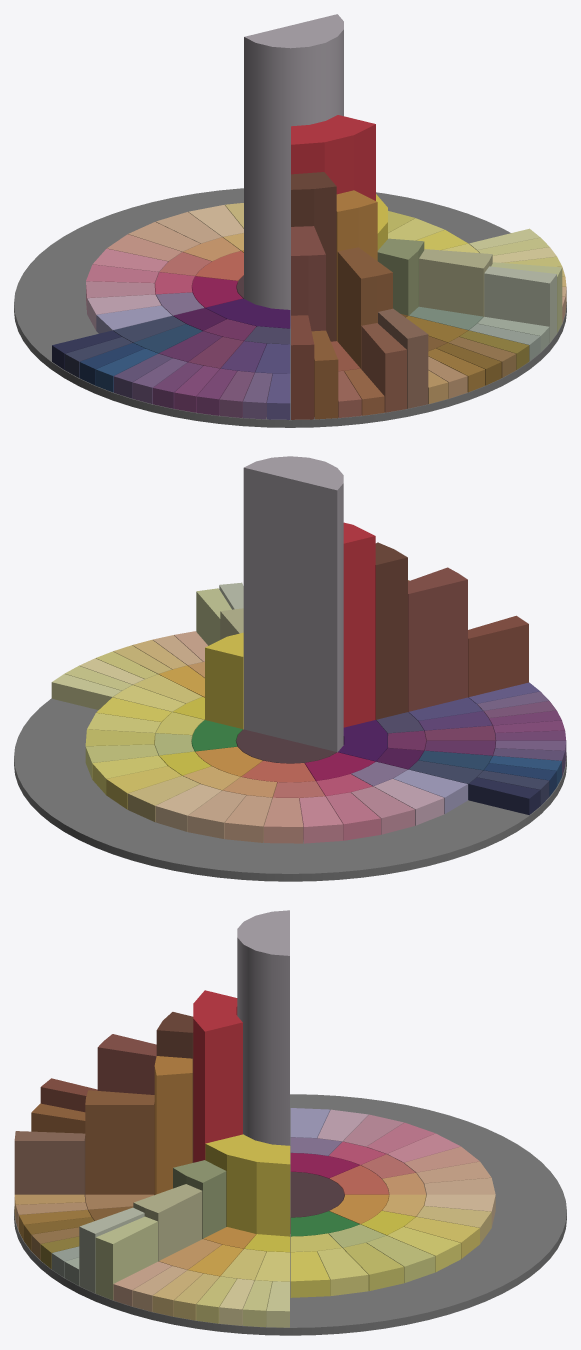
The model's file is wheel_sectors.gltf.
The picture shows the model from 3 angles, top to bottom: view 1: azimuth 30°, elevation 25°; view 2: azimuth 150°, elevation 25°; view 3: azimuth 270°, elevation 25°; orthographic projection.
Visible parts, largest first — view 1: Curve.001, Curve, Curve.008, Curve.051, Curve.056, Curve.087, Curve.021, Curve.049, Curve.077, Curve.022, Curve.078, Curve.073 (+57 smaller); view 2: Curve.001, Curve, Curve.049, Curve.008, Curve.021, Curve.073, Curve.009, Curve.002, Curve.061, Curve.031, Curve.033, Curve.032 (+58 smaller); view 3: Curve, Curve.001, Curve.008, Curve.051, Curve.009, Curve.022, Curve.078, Curve.088, Curve.056, Curve.049, Curve.024, Curve.002 (+53 smaller).
Part boxes in pixels (x1,y1,x2,y2): Curve.001: (244,14,343,326); Curve: (14,188,566,427); Curve.008: (291,115,375,200); Curve.051: (337,247,392,368); Curve.056: (419,249,492,316); Curve.087: (484,266,556,342); Curve.021: (291,172,336,341); Curve.049: (291,226,325,331); Curve.077: (361,323,406,412); Curve.022: (336,190,377,341); Curve.078: (378,308,428,408); Curve.073: (291,315,314,419); Curve.001: (243,456,343,752); Curve: (14,698,566,881); Curve.049: (408,567,467,711); Curve.008: (343,522,375,727); Curve.021: (375,542,407,719); Curve.073: (468,615,528,697); Curve.009: (205,632,243,729); Curve.002: (236,729,336,763); Curve.061: (468,777,540,815); Curve.031: (299,796,343,843); Curve.033: (224,795,272,842); Curve.032: (264,797,303,843); Curve: (14,1094,566,1335); Curve.001: (237,910,289,1145); Curve.008: (193,990,242,1162); Curve.051: (85,1090,154,1195); Curve.009: (205,1134,290,1252); Curve.022: (154,1056,192,1194); Curve.078: (14,1131,85,1199); Curve.088: (95,1216,157,1300); Curve.056: (133,1184,202,1261); Curve.049: (97,1034,156,1094); Curve.024: (173,1160,226,1238); Curve.002: (290,1172,344,1233).
Size of the model in its own units: 2.92 by 1.67 by 2.92.
